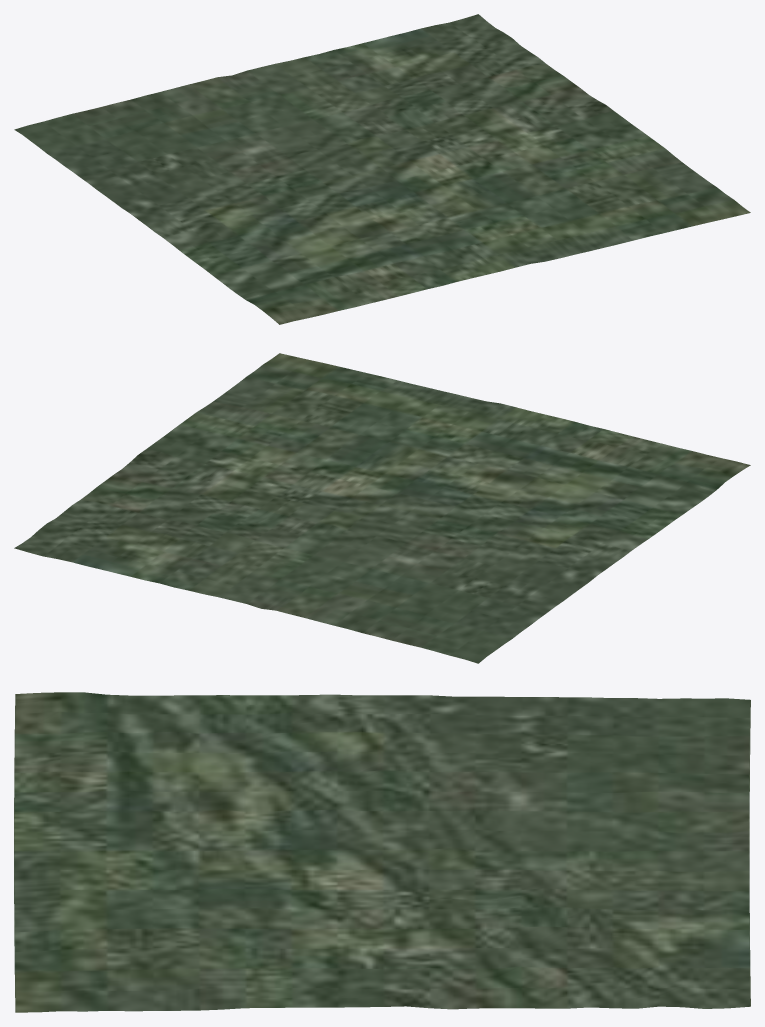
3 renders of one model, top to bottom at view 1: azimuth 30°, elevation 25°; view 2: azimuth 150°, elevation 25°; view 3: azimuth 270°, elevation 25°, orthographic. The views are drawn at different scales.
Size of the model in its own units: 125839 by 1459 by 124621.
1 material, 1 textured.
